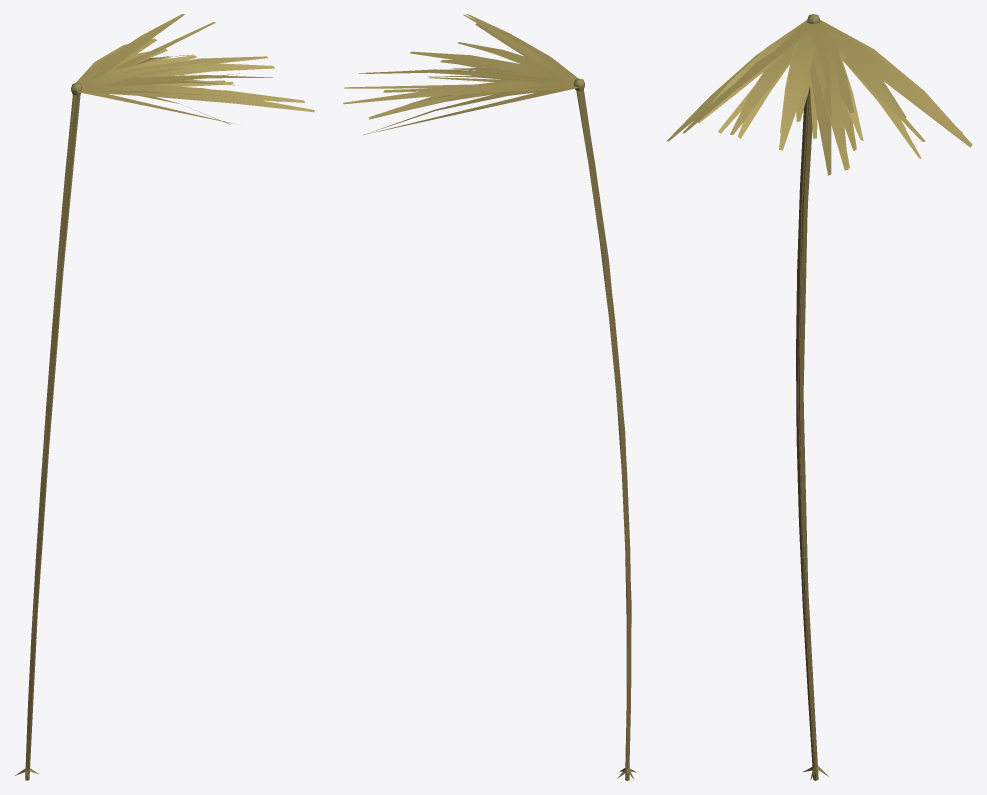
The model's file is bull_kelp.glb.
3 renders of one model, left to right at view 1: azimuth 30°, elevation 25°; view 2: azimuth 150°, elevation 25°; view 3: azimuth 270°, elevation 25°, orthographic. The views are drawn at different scales.
Parts seen in each view (by area): view 1: bull_kelp, bull_kelp_lo; view 2: bull_kelp, bull_kelp_lo; view 3: bull_kelp, bull_kelp_lo.
Part boxes in pixels (x1,y1,x2,y2): bull_kelp: (15,14,314,780); bull_kelp_lo: (26,22,239,780); bull_kelp: (343,14,636,780); bull_kelp_lo: (344,62,631,779); bull_kelp: (666,14,972,780); bull_kelp_lo: (718,21,968,780).
Size of the model in its own units: 3.27 by 8.11 by 2.84.
